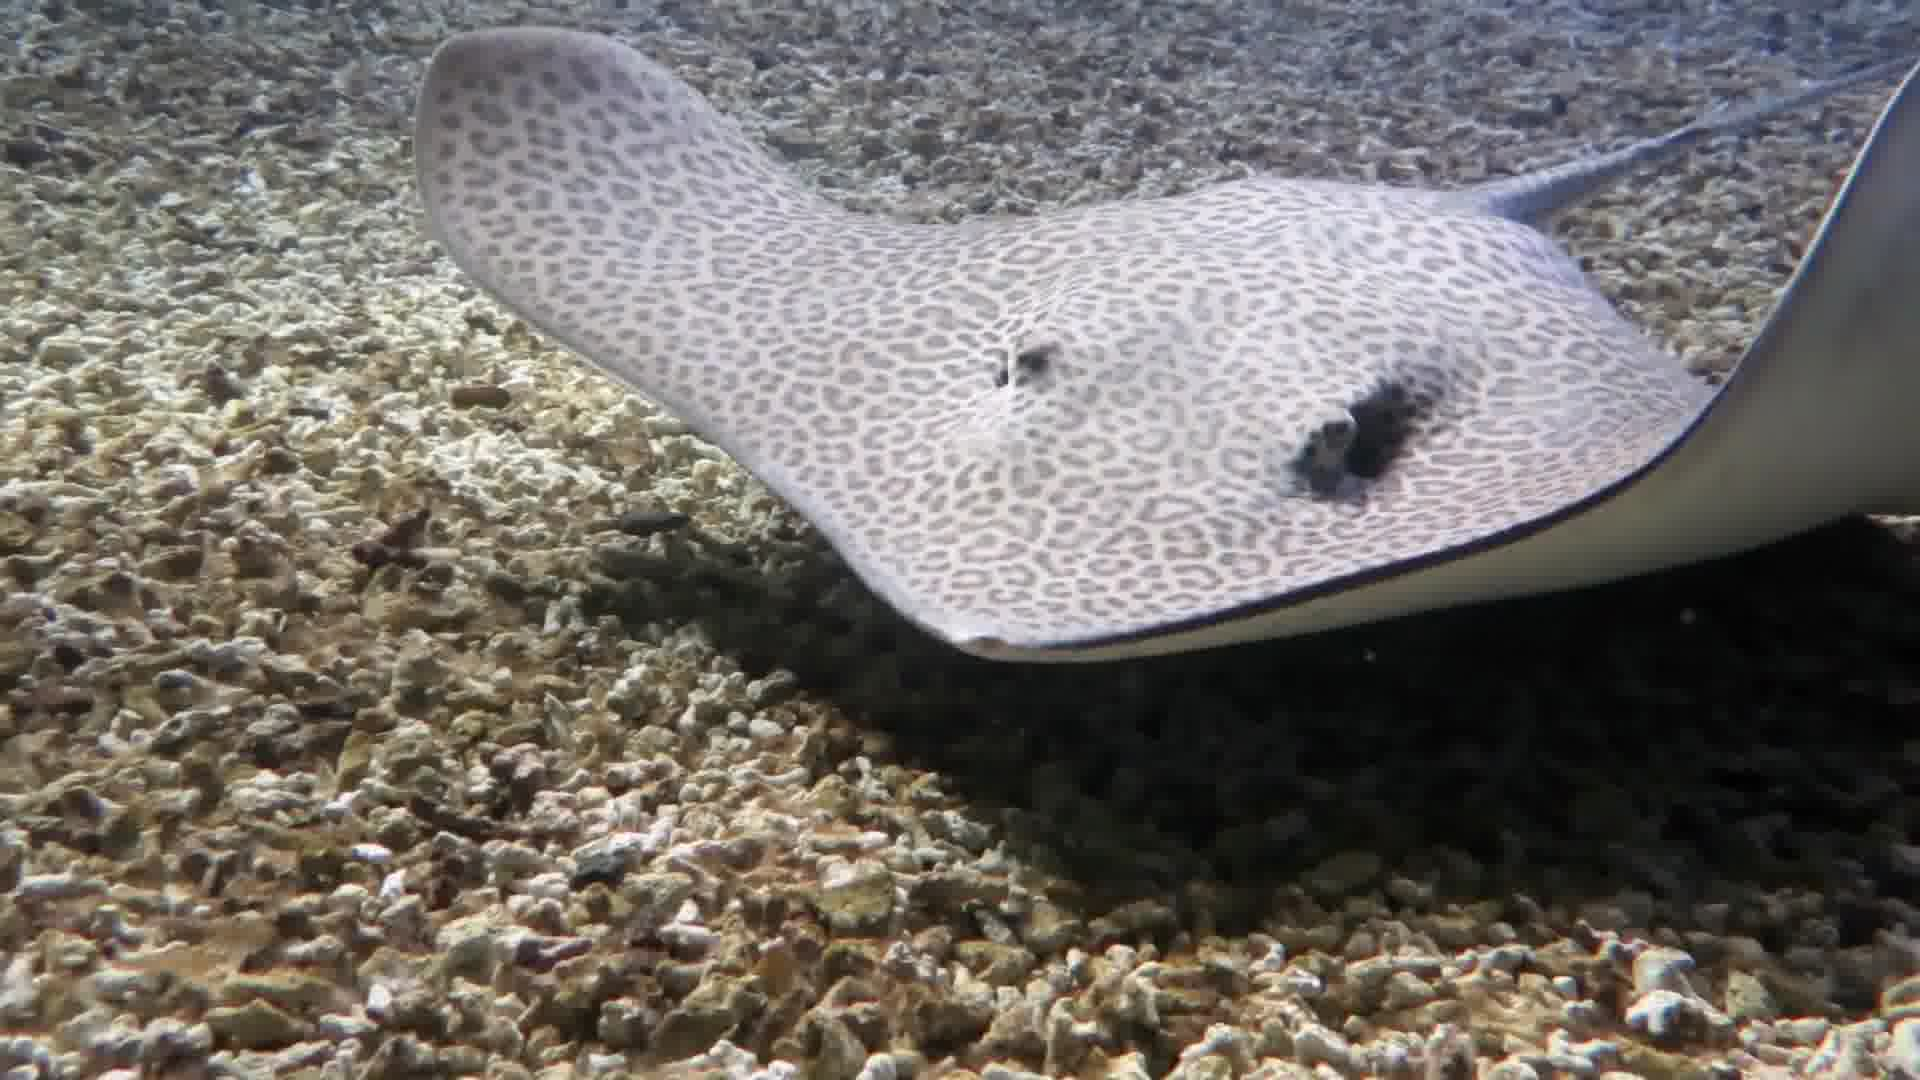Himantura uarnak: (417, 1, 1917, 663)
